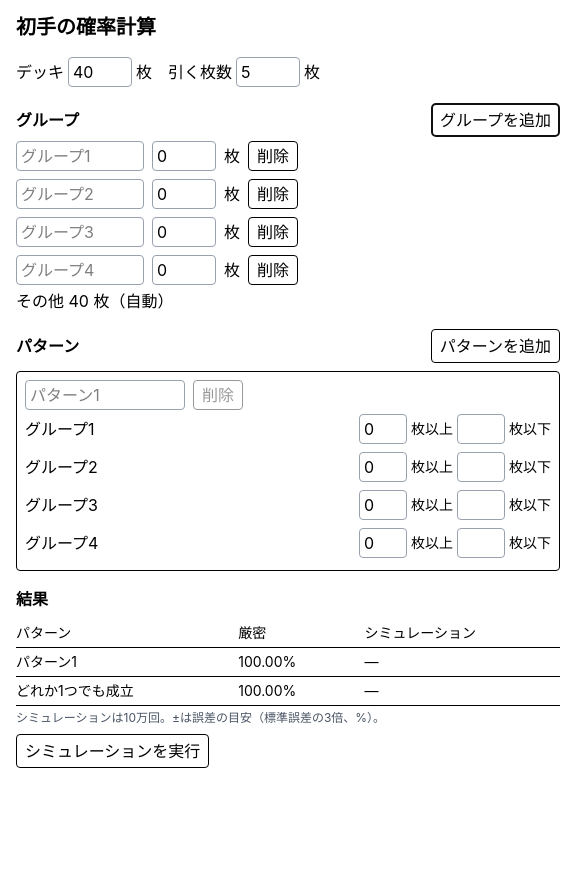
Test: グループが 10 個になると、追加ボタンを押せない
Earlier steps of the test are not shown.
Click the button "グループを追加": (496, 120) [431,103,560,137]
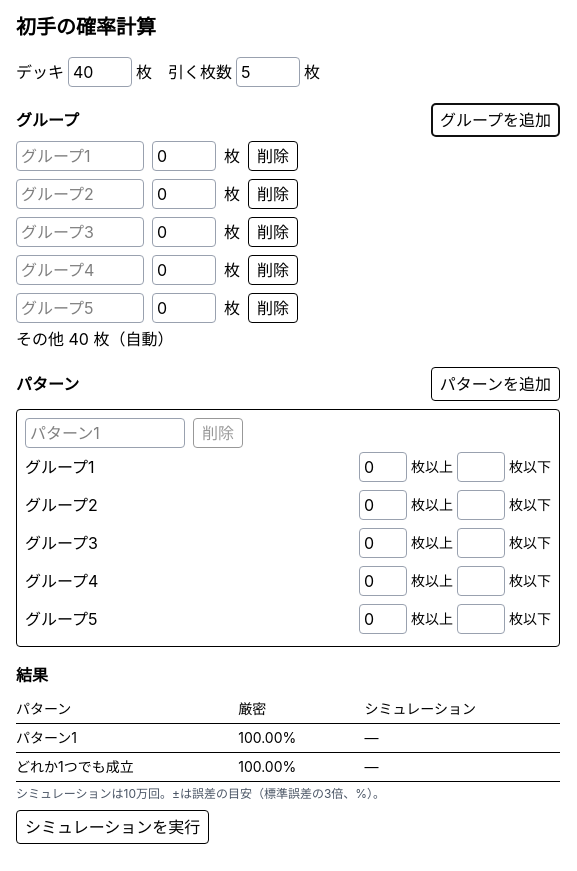
Click the button "グループを追加": (496, 120) [431,103,560,137]
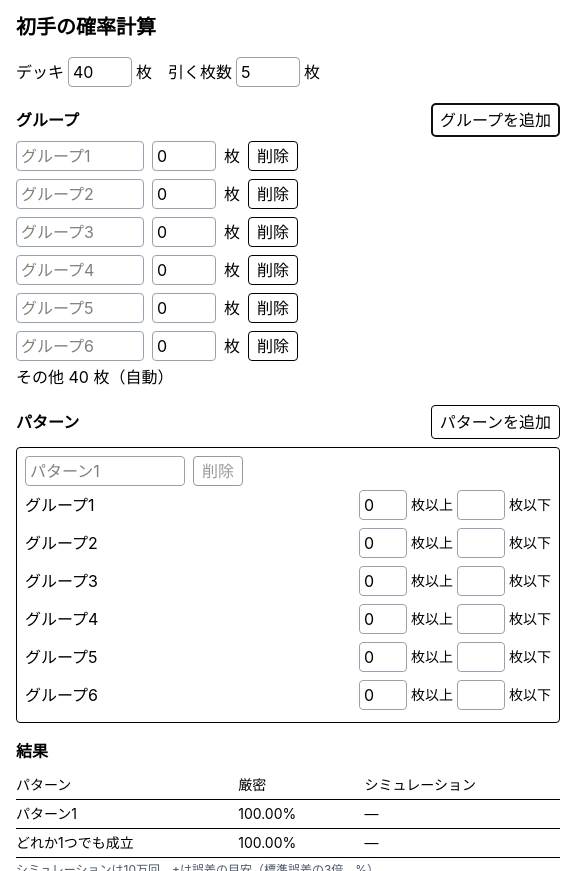
Click the button "グループを追加": (496, 120) [431,103,560,137]
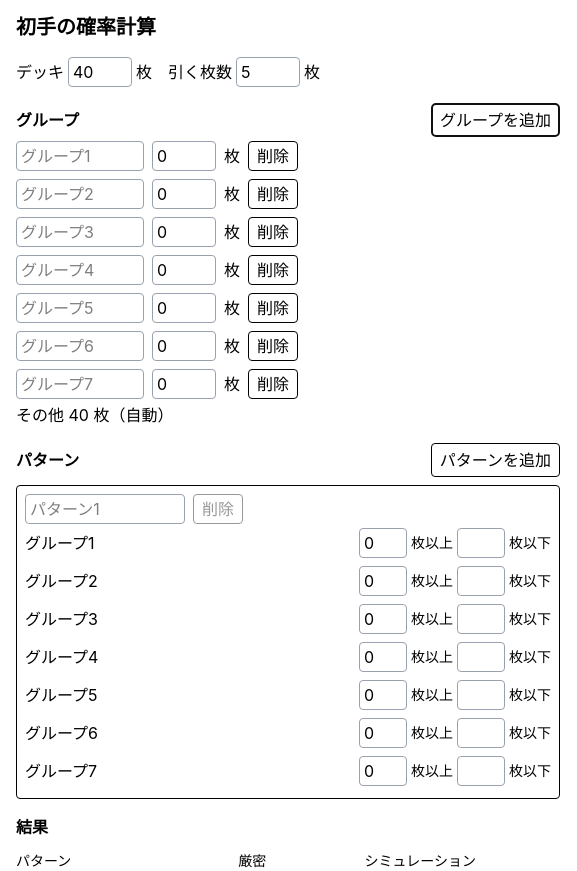
Click the button "グループを追加": (496, 120) [431,103,560,137]
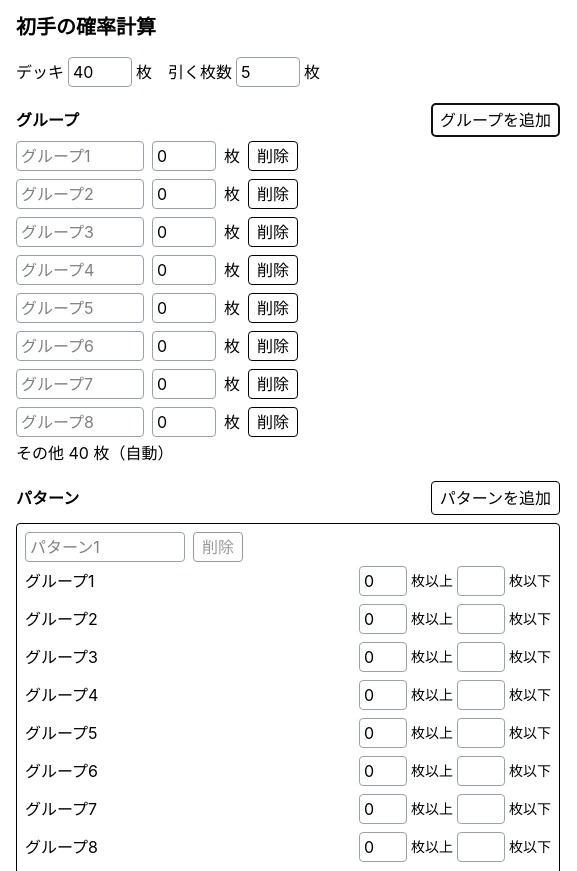
Click the button "グループを追加": (496, 120) [431,103,560,137]
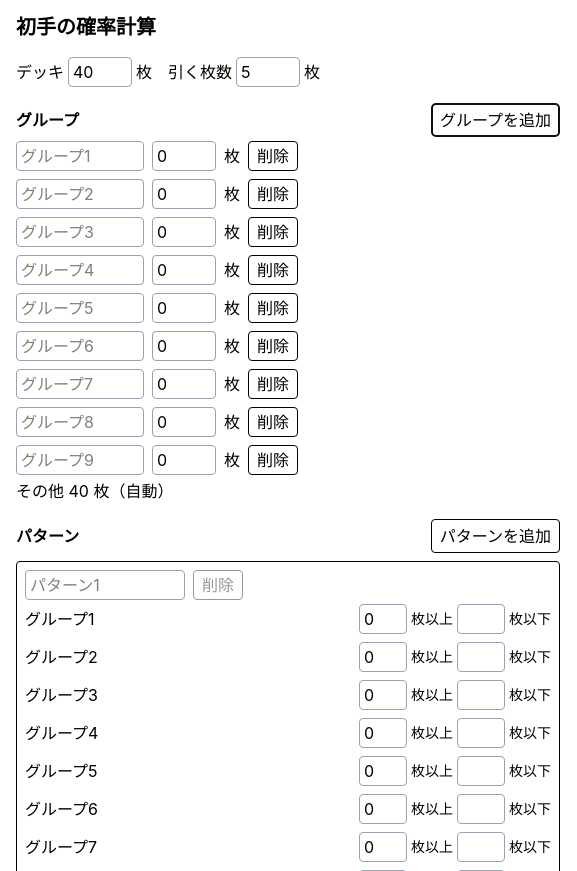
Click the button "グループを追加": (496, 120) [431,103,560,137]
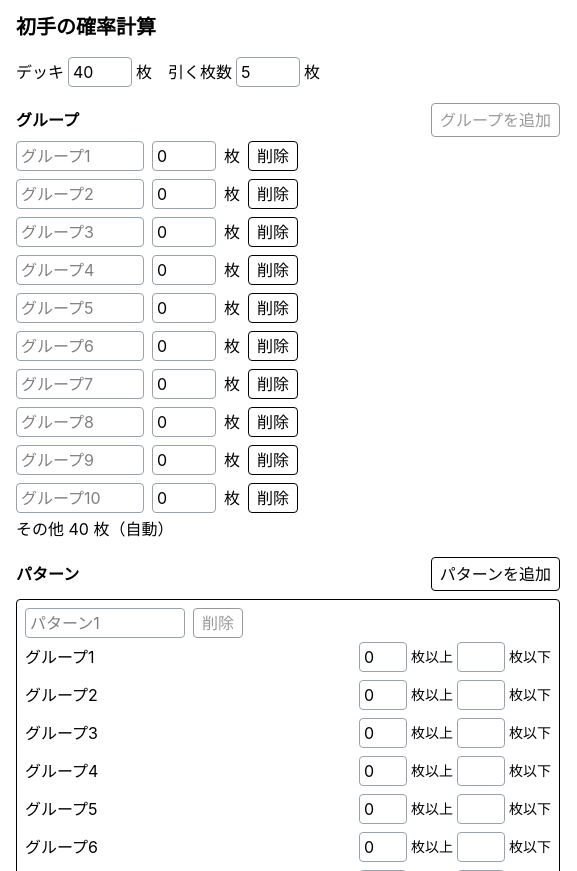
Check: the button "グループを追加" is disabled, box [431,103,560,137]
